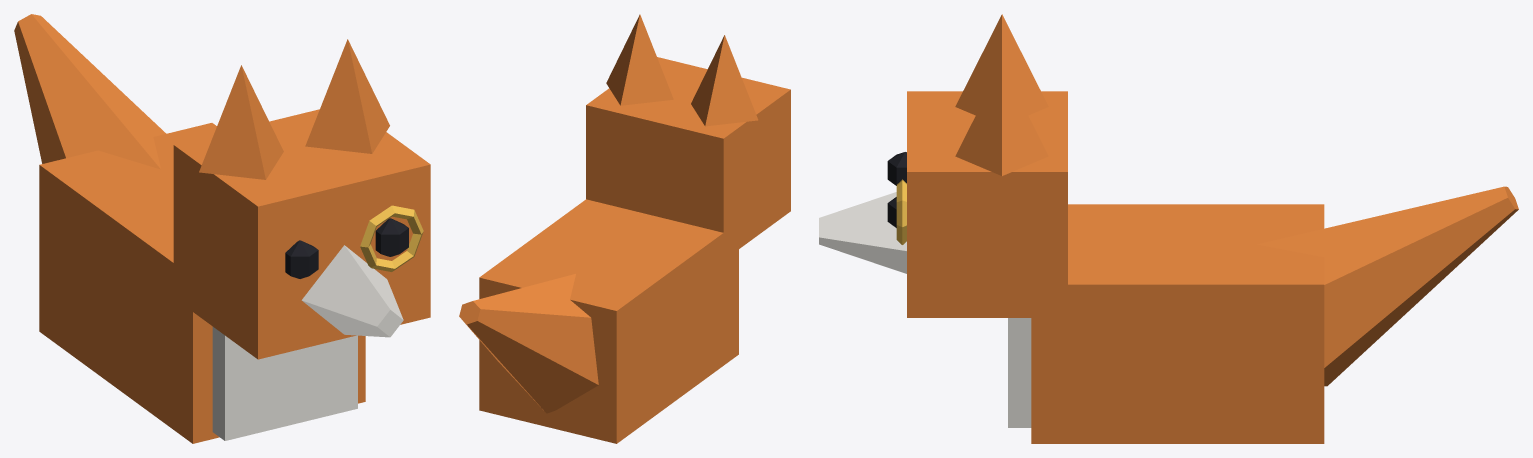
Rendered from mdl_mascota_zorro.fbx.
3 renders of one model, left to right at view 1: azimuth 30°, elevation 25°; view 2: azimuth 150°, elevation 25°; view 3: azimuth 270°, elevation 25°, orthographic. The views are drawn at different scales.
Parts seen in each view (by area): view 1: mdl_mascota_zorro; view 2: mdl_mascota_zorro; view 3: mdl_mascota_zorro.
Part boxes in pixels (x1=…): mdl_mascota_zorro: x1=14, y1=14, x2=430, y2=443; mdl_mascota_zorro: x1=459, y1=14, x2=790, y2=443; mdl_mascota_zorro: x1=819, y1=14, x2=1518, y2=443.
Bounding box in the file's own units: 72 × 138 × 239.
